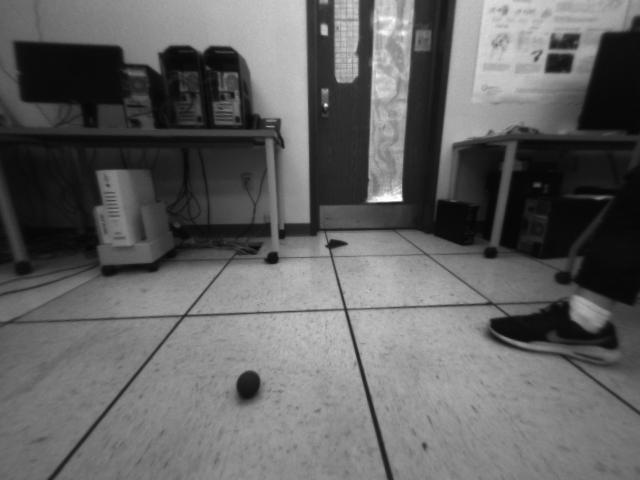dogtoy: (229, 360, 270, 405)
